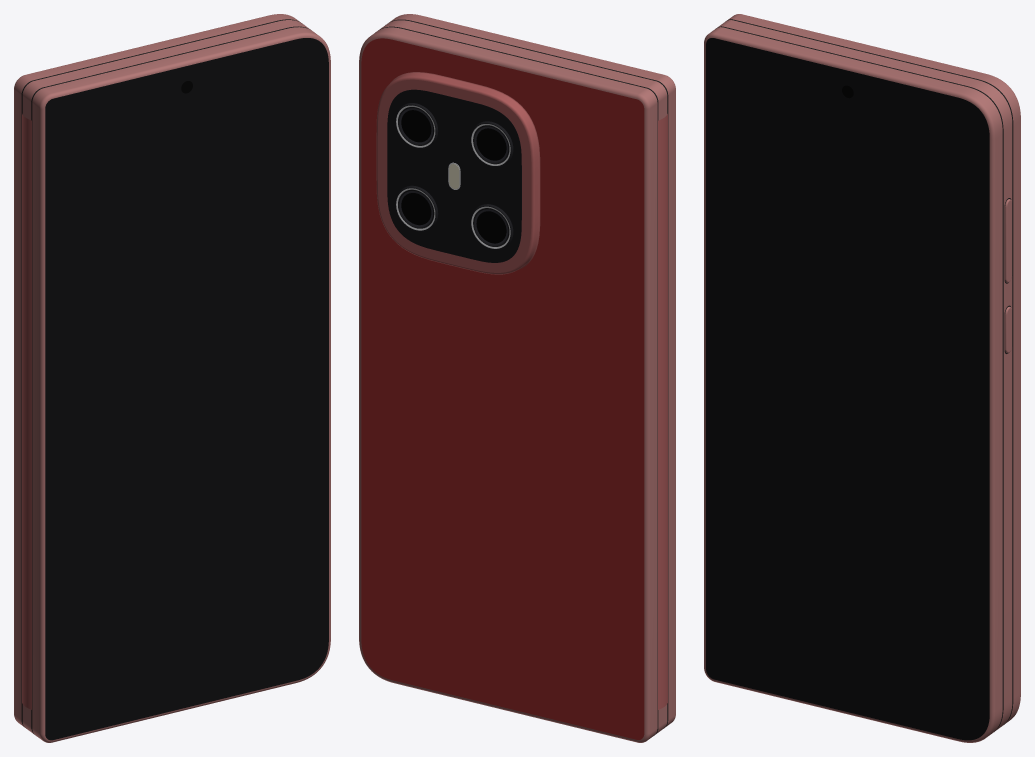
The model's file is huawei-mate-xt.glb.
3 renders of one model, left to right at view 1: azimuth 30°, elevation 25°; view 2: azimuth 150°, elevation 25°; view 3: azimuth 330°, elevation 25°, orthographic.
Parts seen in each view (by area): view 1: body, fold; view 2: body, camera, fold; view 3: body, fold, buttons.
Boxes of the visible parts, x1,y1,x2,y2 form: body: (14, 14, 330, 742); fold: (21, 19, 310, 734); body: (359, 14, 675, 742); camera: (376, 72, 540, 274); fold: (378, 19, 668, 735); body: (704, 14, 1020, 742); fold: (717, 19, 1013, 731); buttons: (1004, 198, 1012, 353).
Size of the model in its own units: 74.38 by 157 by 15.82.
